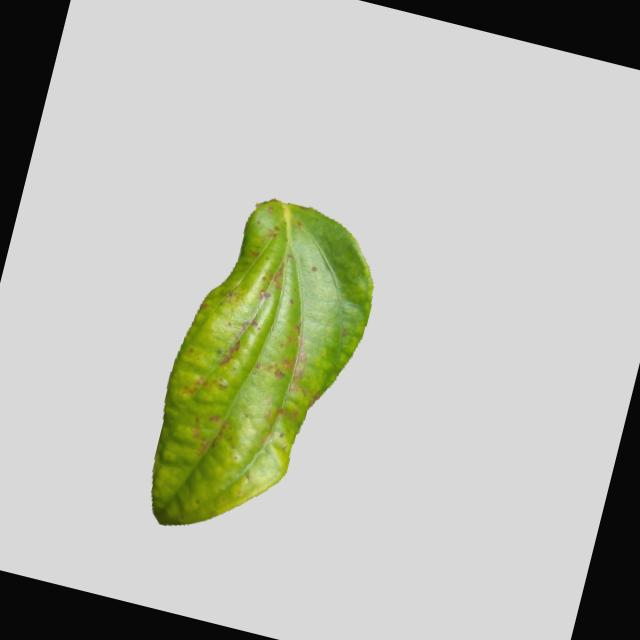yellow-mottle-virus: (112, 170, 398, 560)
